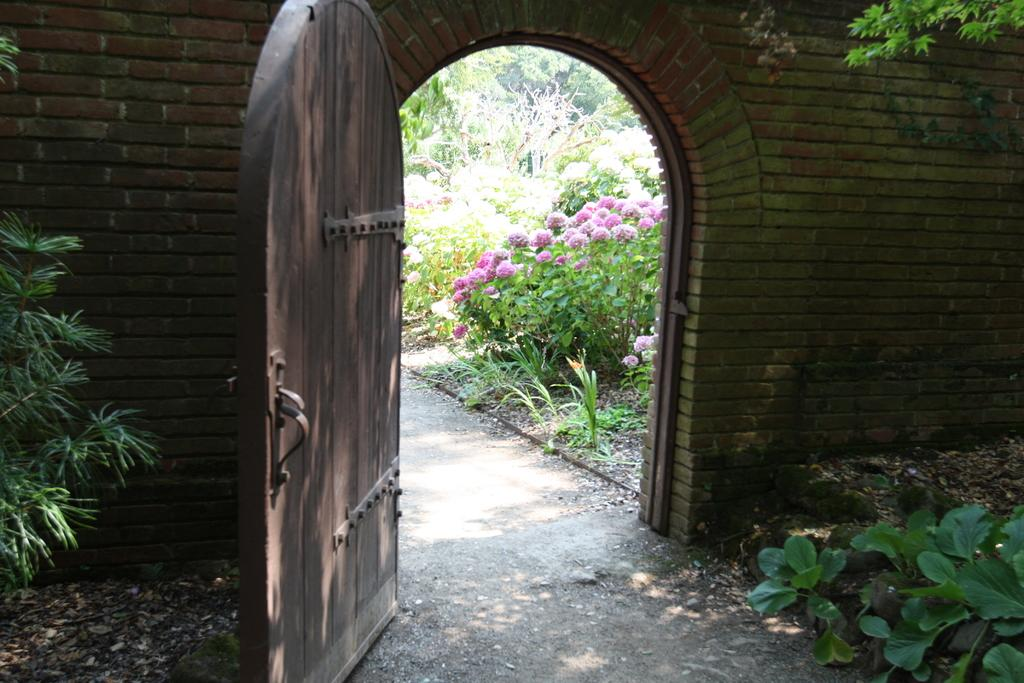handle: (270, 362, 316, 500)
